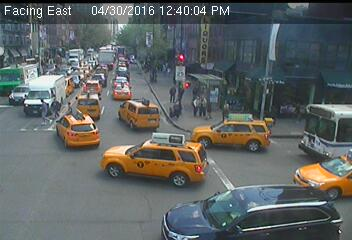neg: (297, 170, 325, 208), (47, 147, 75, 184), (258, 54, 284, 88), (116, 58, 141, 92), (230, 187, 255, 220), (298, 104, 321, 135), (12, 44, 34, 73), (126, 112, 147, 140), (263, 112, 284, 139), (107, 161, 126, 187), (77, 65, 96, 90), (73, 119, 91, 144), (46, 49, 63, 71), (93, 39, 109, 61), (167, 42, 183, 64), (171, 106, 187, 127)
pos: (34, 95, 53, 119), (200, 96, 216, 117), (218, 102, 232, 121), (164, 83, 178, 102), (51, 93, 65, 111), (190, 97, 203, 115)
